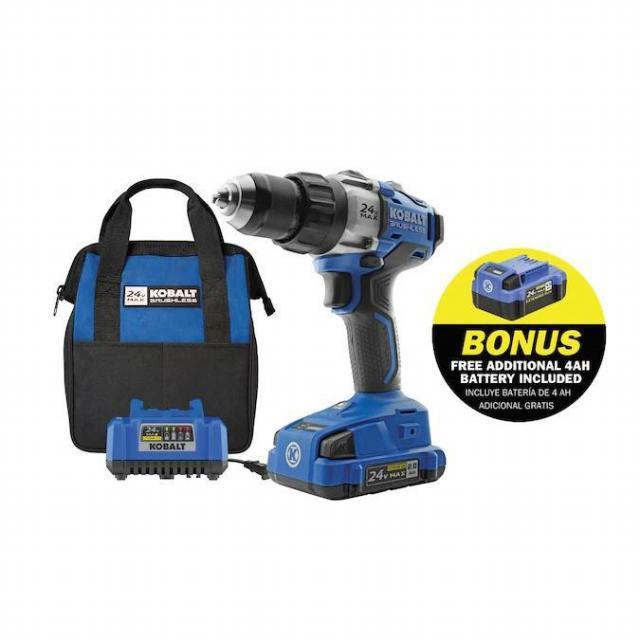drill: (212, 169, 445, 501)
